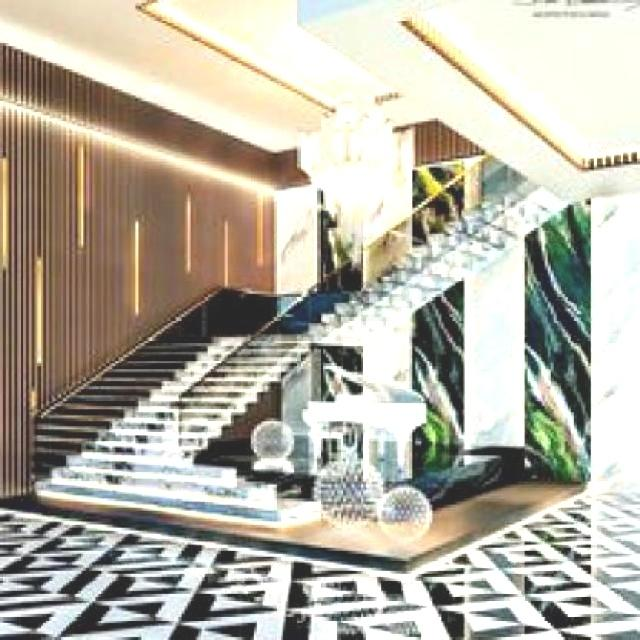stair: (46, 292, 326, 540)
